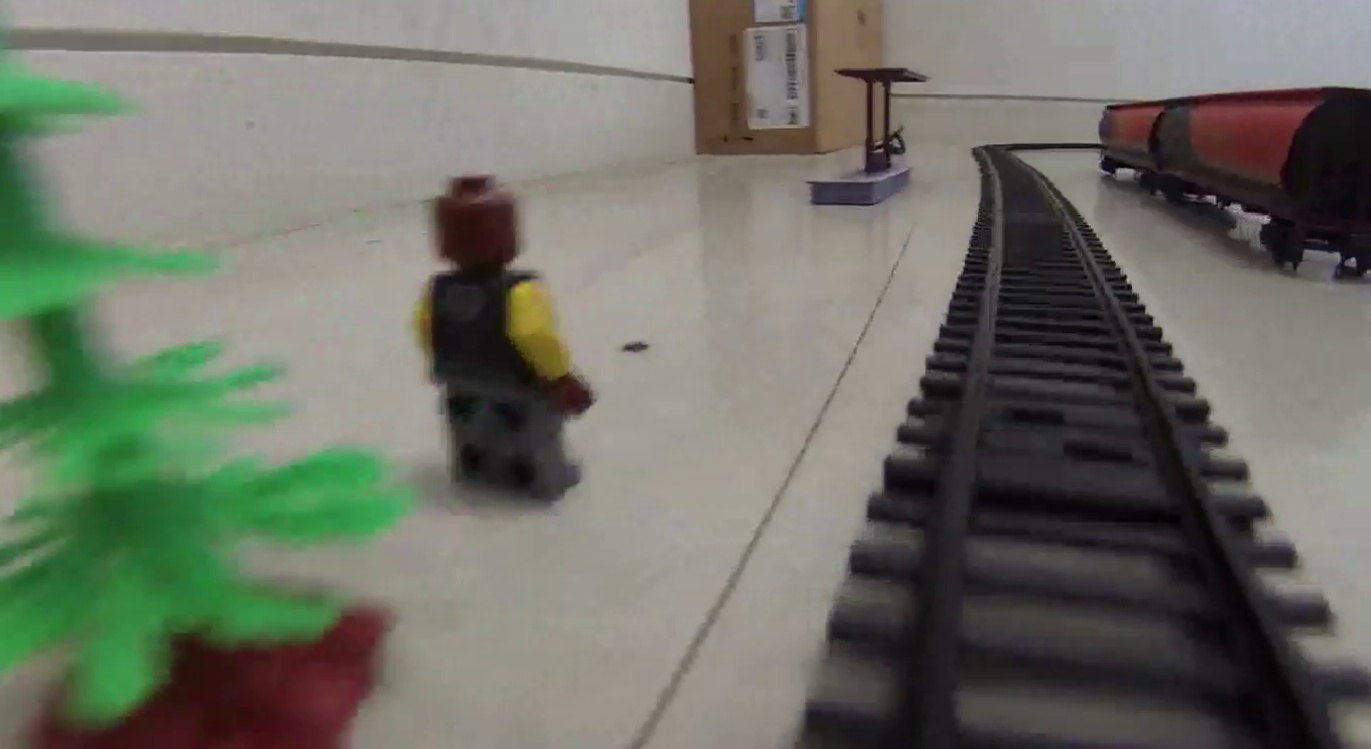people: (414, 173, 591, 498)
tree: (4, 43, 415, 749)
